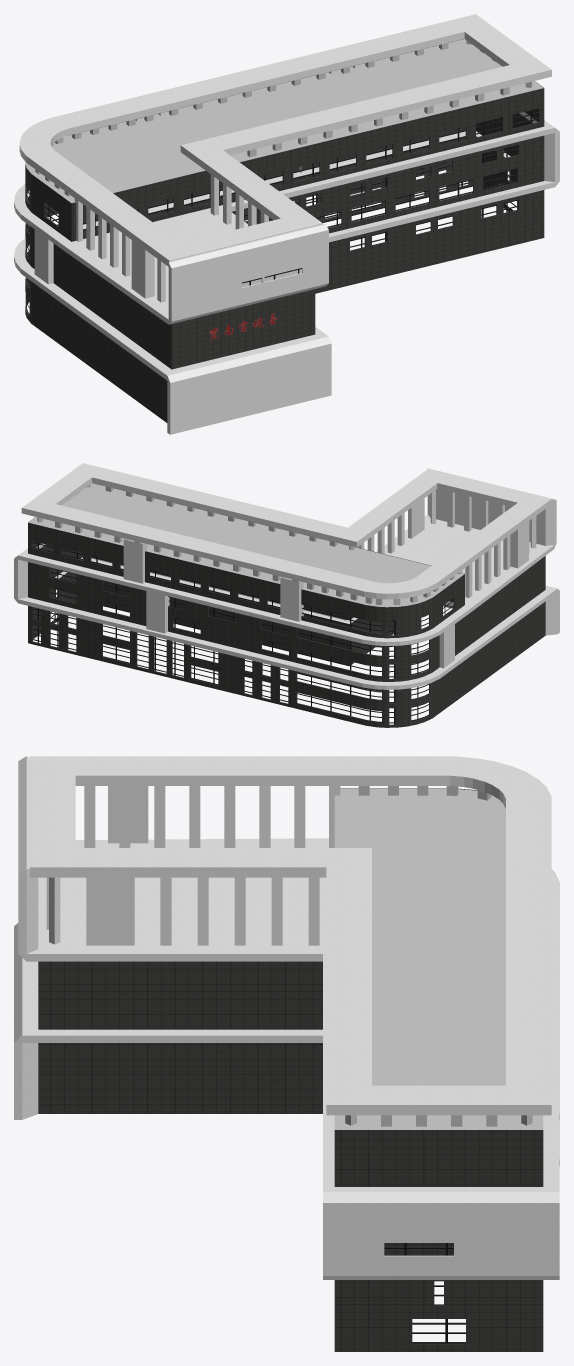
File: dianshitai-1.FBX
3 views of the same model, one above another, from view 1: azimuth 30°, elevation 25°; view 2: azimuth 150°, elevation 25°; view 3: azimuth 270°, elevation 25° (orthographic). The views are drawn at different scales.
Parts seen in each view (by area): view 1: dt-3, dt-6, dt-4, dt-1, dt-5; view 2: dt-3, dt-6, dt-4, dt-1, dt-5; view 3: dt-3, dt-6, dt-4, dt-5.
Boxes of the visible parts, x1,y1,x2,y2 form: dt-3: (14, 14, 559, 434); dt-6: (25, 39, 544, 422); dt-4: (25, 39, 543, 203); dt-1: (26, 110, 538, 314); dt-5: (35, 40, 532, 196); dt-3: (14, 463, 559, 689); dt-6: (28, 483, 545, 727); dt-4: (28, 483, 464, 607); dt-1: (32, 542, 453, 724); dt-5: (37, 484, 454, 605); dt-3: (14, 756, 559, 1279); dt-6: (38, 788, 543, 1351); dt-4: (334, 788, 543, 1129); dt-5: (345, 786, 532, 1126).
Size of the model in its own units: 102 by 65.85 by 33.31.
